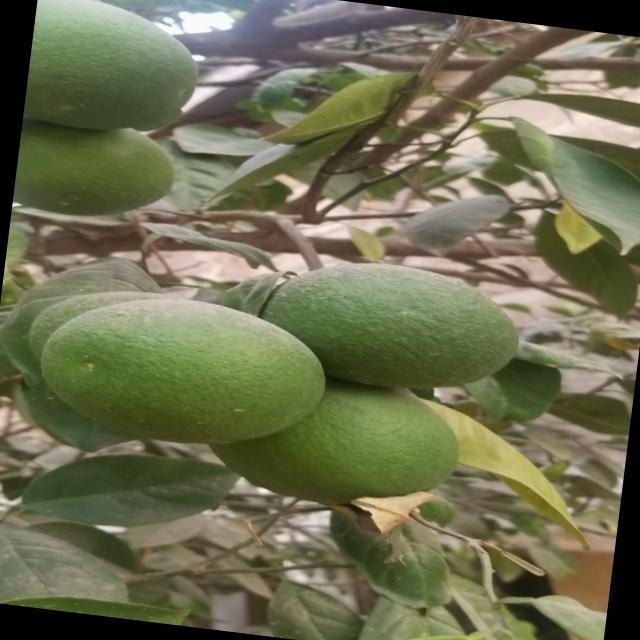agrume: (30, 281, 327, 463), (247, 243, 533, 414), (193, 359, 473, 533), (21, 0, 214, 152)
